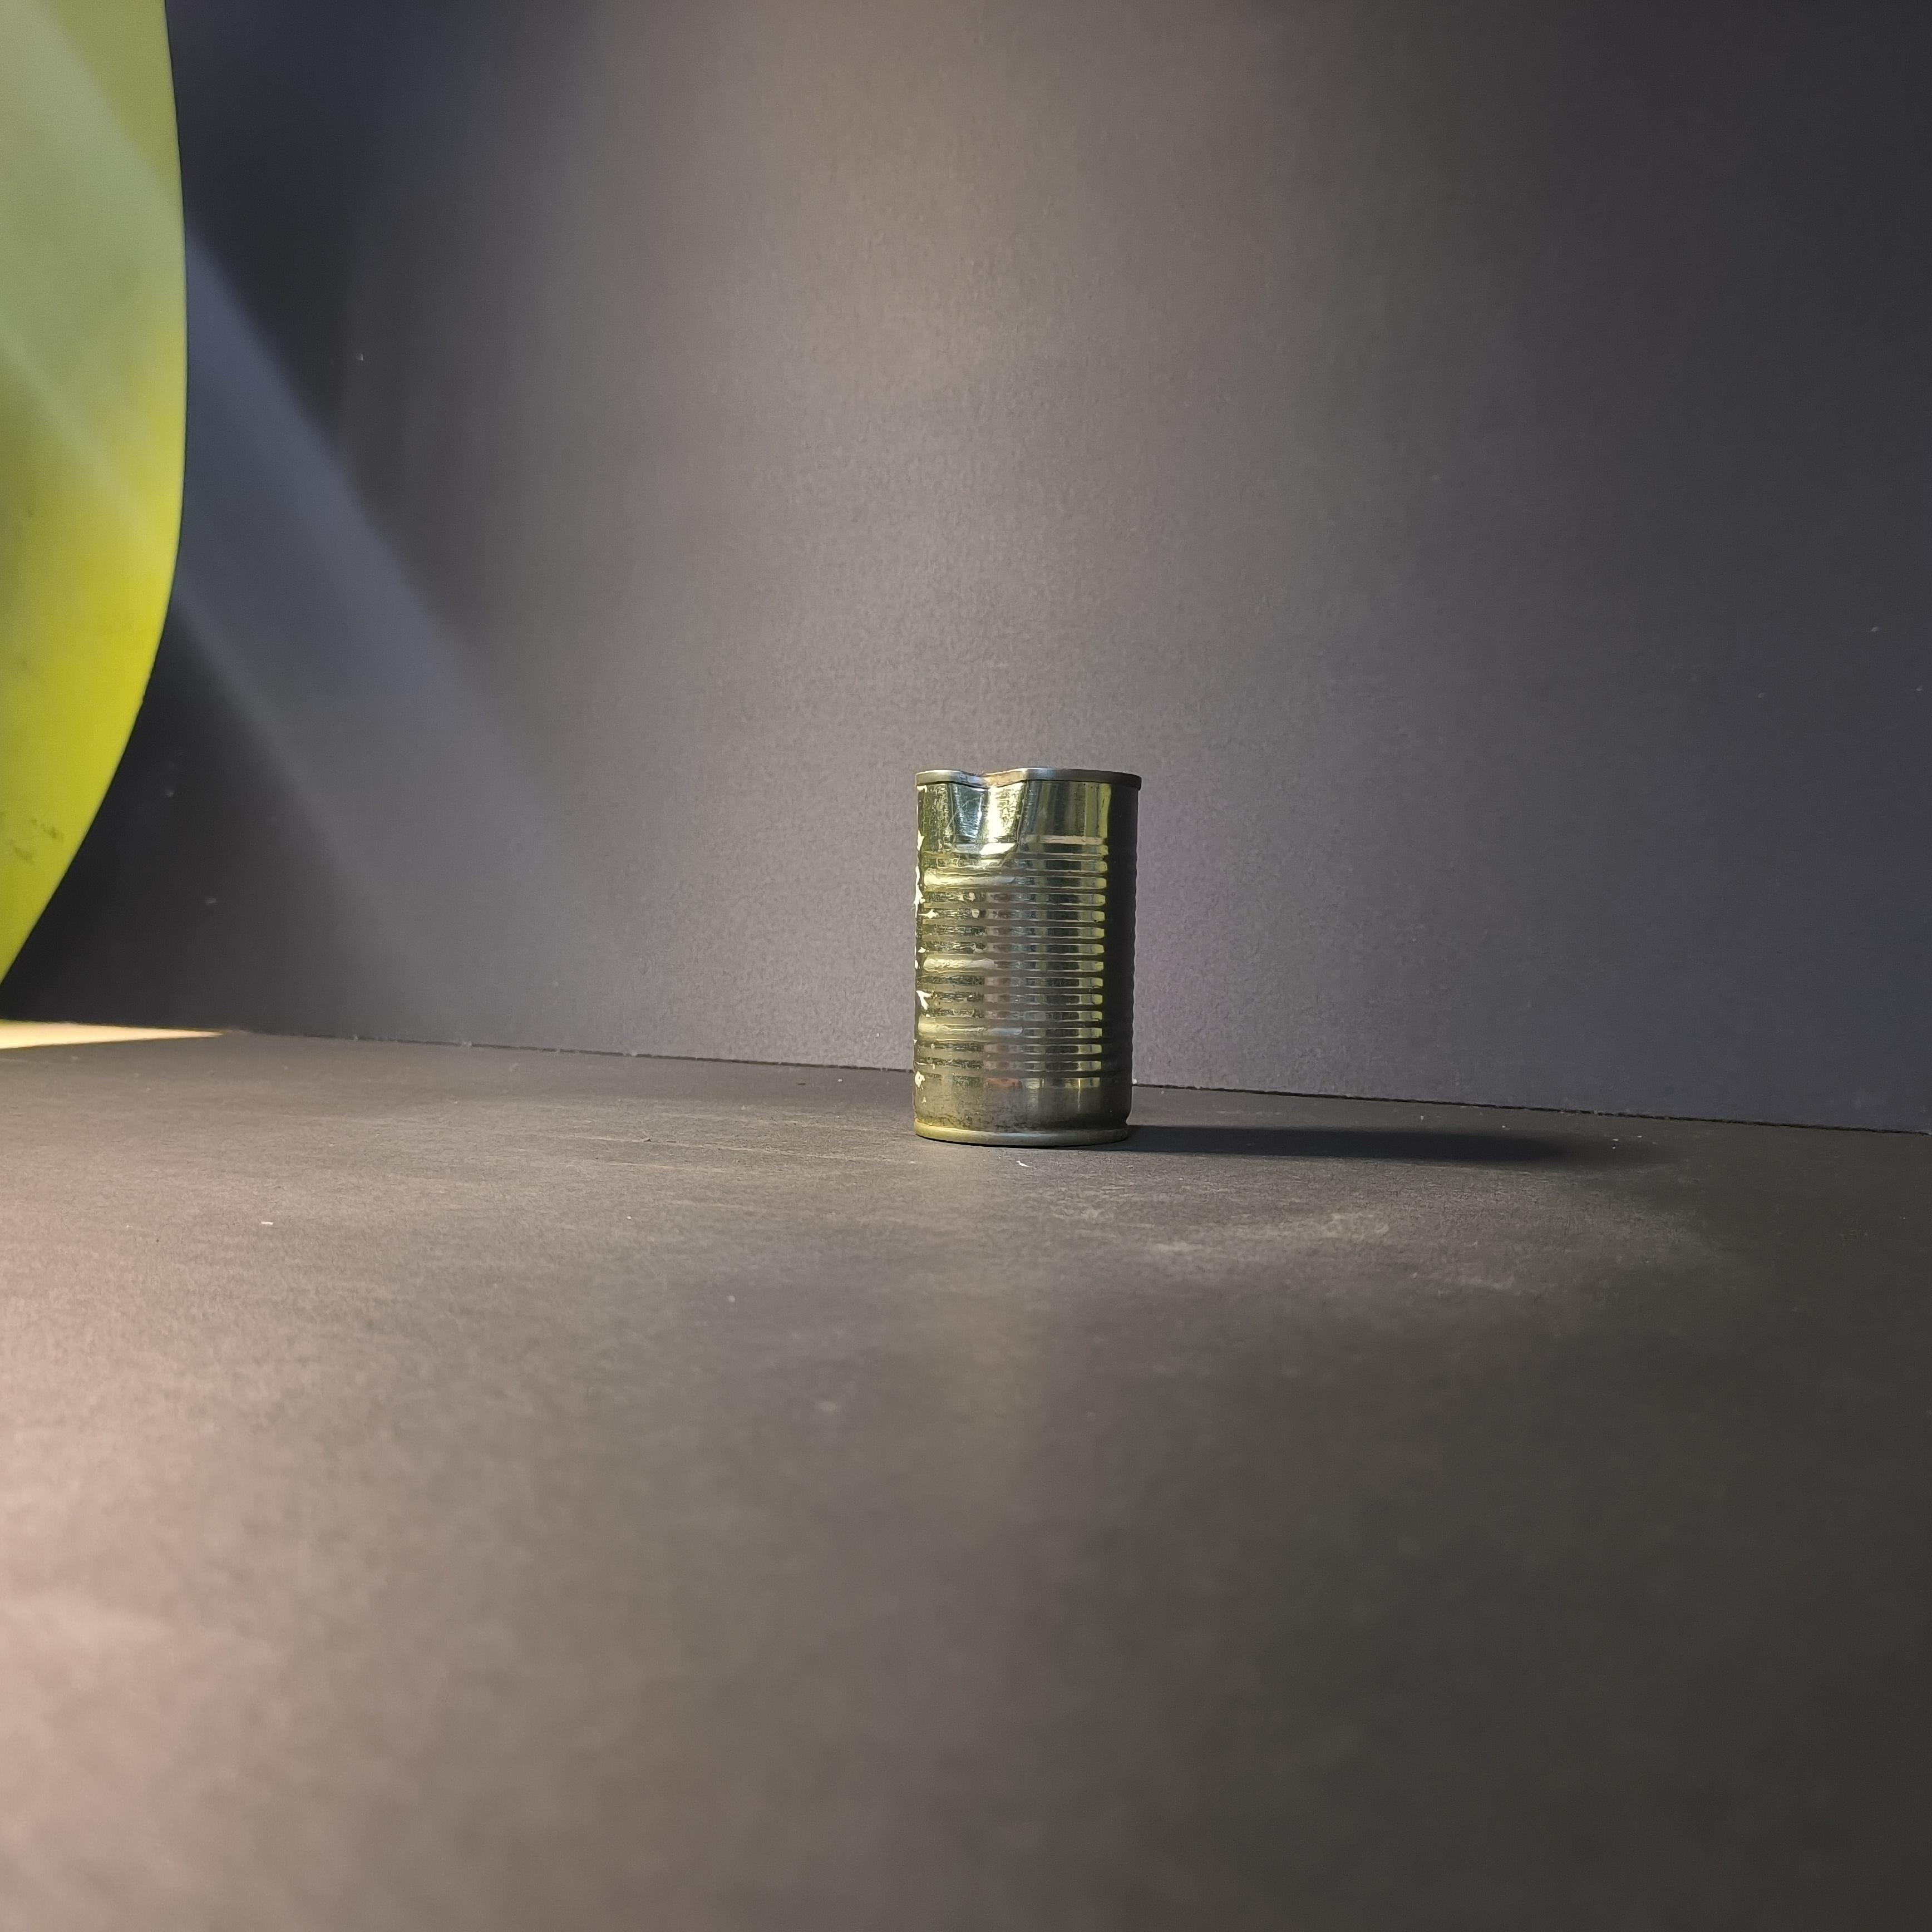Dented: (888, 738, 1161, 1162)
